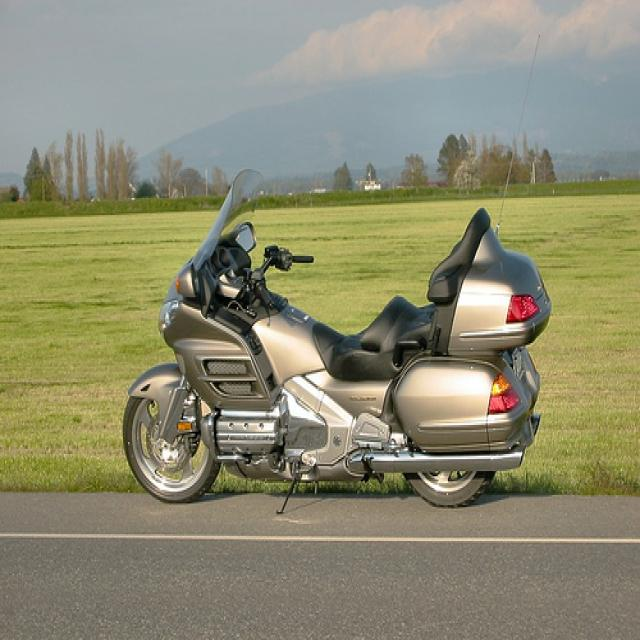motorcycle: (122, 162, 548, 512)
